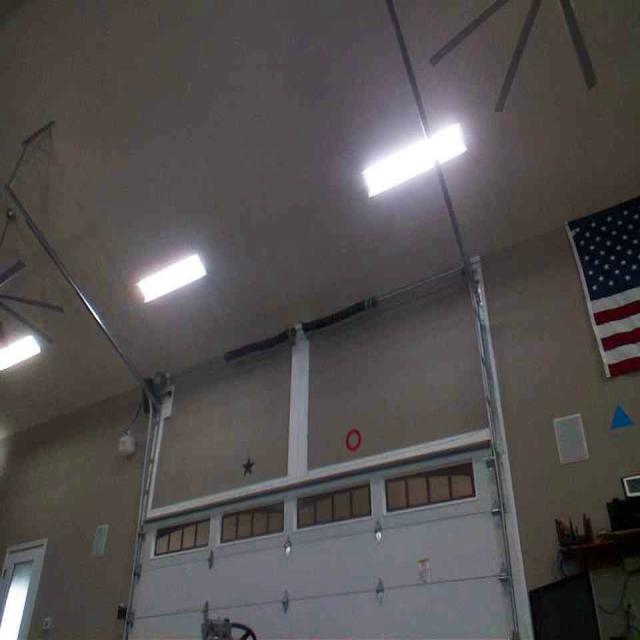ring_red: (344, 426, 361, 450)
star_black: (240, 455, 253, 478)
triangle_blue: (609, 405, 632, 431)
